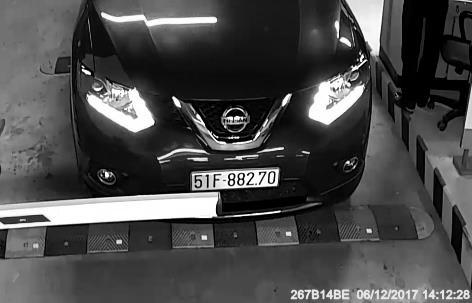License-plate: (183, 170, 283, 194)
